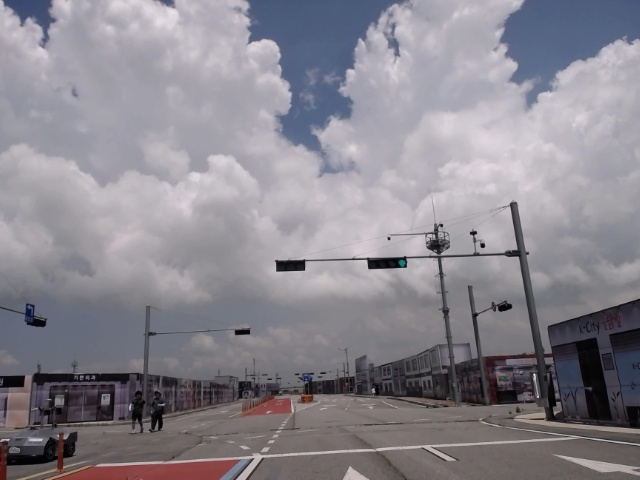straight_green_4: (367, 257, 408, 267)
